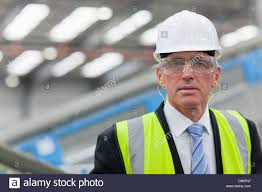Person_wearing_helmet: (146, 6, 225, 74)
